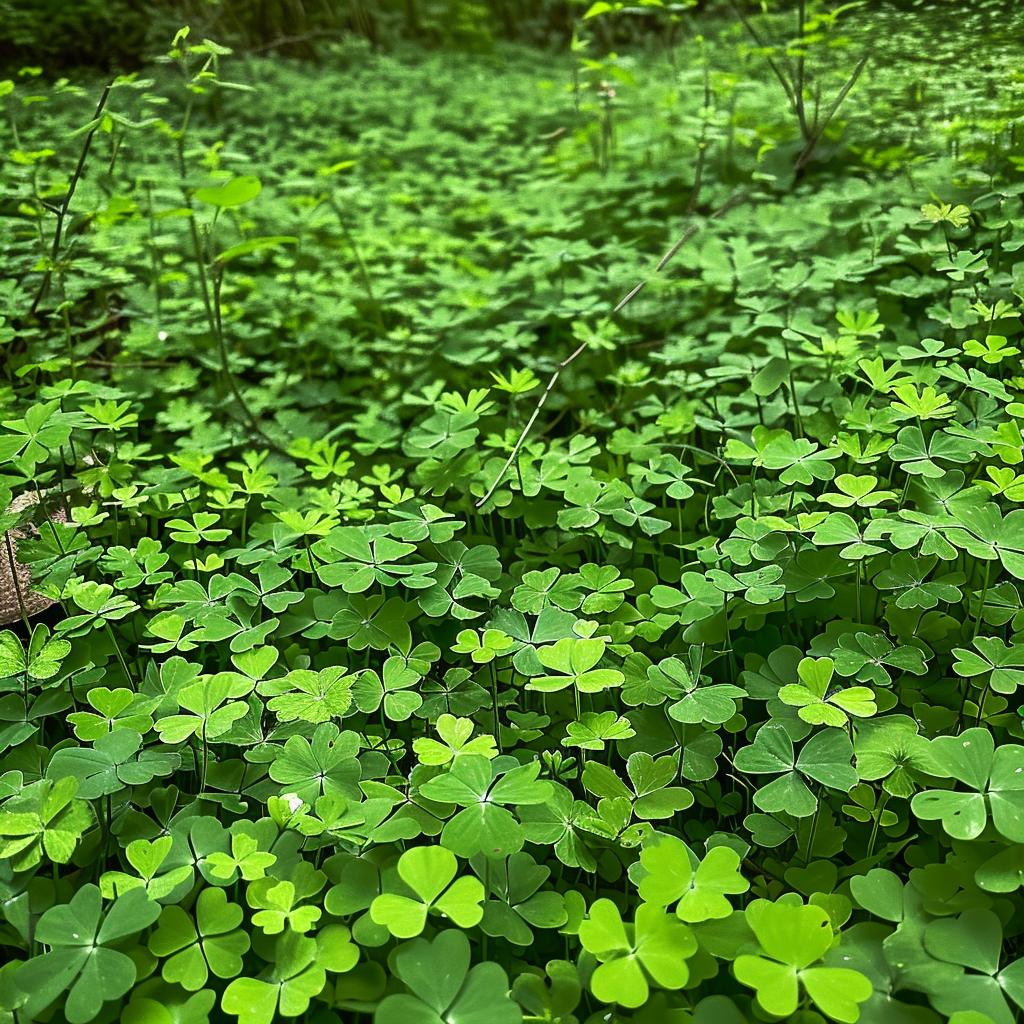Four-Leaf: (732, 892, 876, 1020), (374, 935, 535, 1024), (912, 725, 1024, 844), (150, 888, 254, 989)
